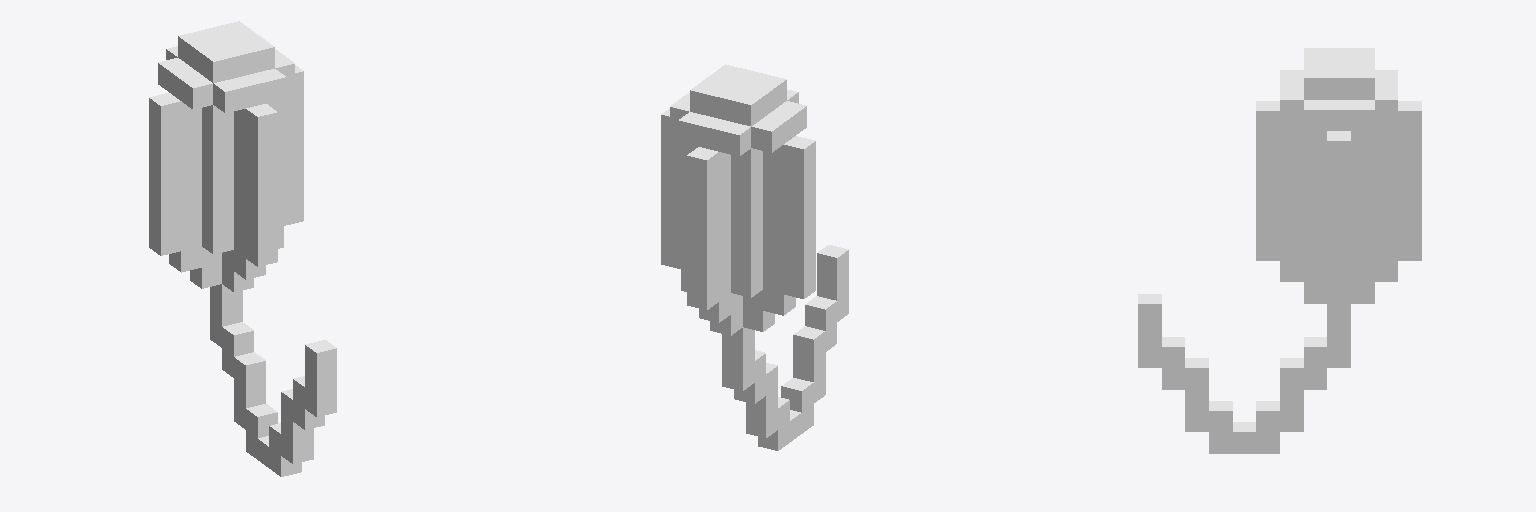
File: Lanternpaal-0.obj
3 views of the same model, side by side, from view 1: azimuth 30°, elevation 25°; view 2: azimuth 150°, elevation 25°; view 3: azimuth 270°, elevation 25° (orthographic).
Visible parts, largest first — view 1: object 1; view 2: object 1; view 3: object 1.
Boxes of the visible parts, x1=… form: object 1: x1=149, y1=21, x2=336, y2=476; object 1: x1=661, y1=64, x2=848, y2=450; object 1: x1=1138, y1=48, x2=1421, y2=453.
Bounding box in the file's own units: 0.7 × 1.8 × 1.2.